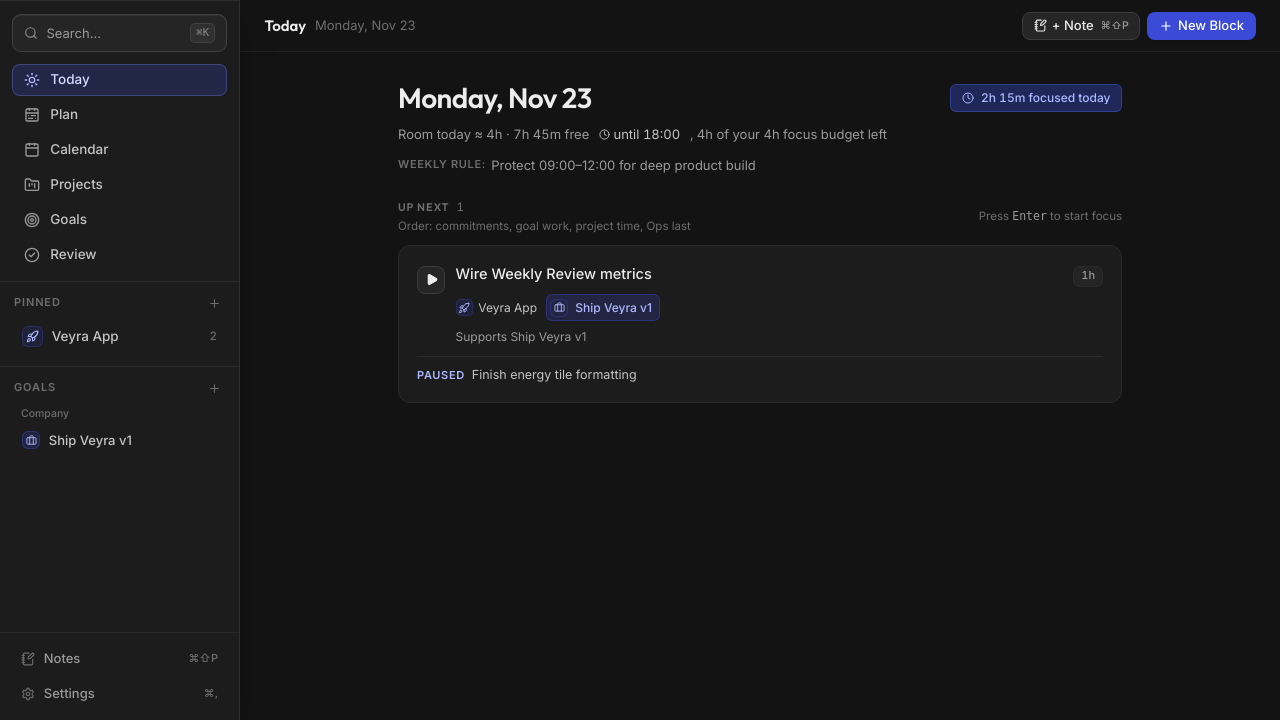
Veyra Web App Flows › ReviewView renders raw Energy counts (9+ · 3· · 1−) and never renders a percentage energy score
The image size is (1280, 720).
Expected: the text "2h 15m focused today" is shown, [981,92,1110,104]
What coordinates should you click on to do the following:
click the button "Review"
I would click on:
 (120, 255)
Its box is [12,239,227,271].
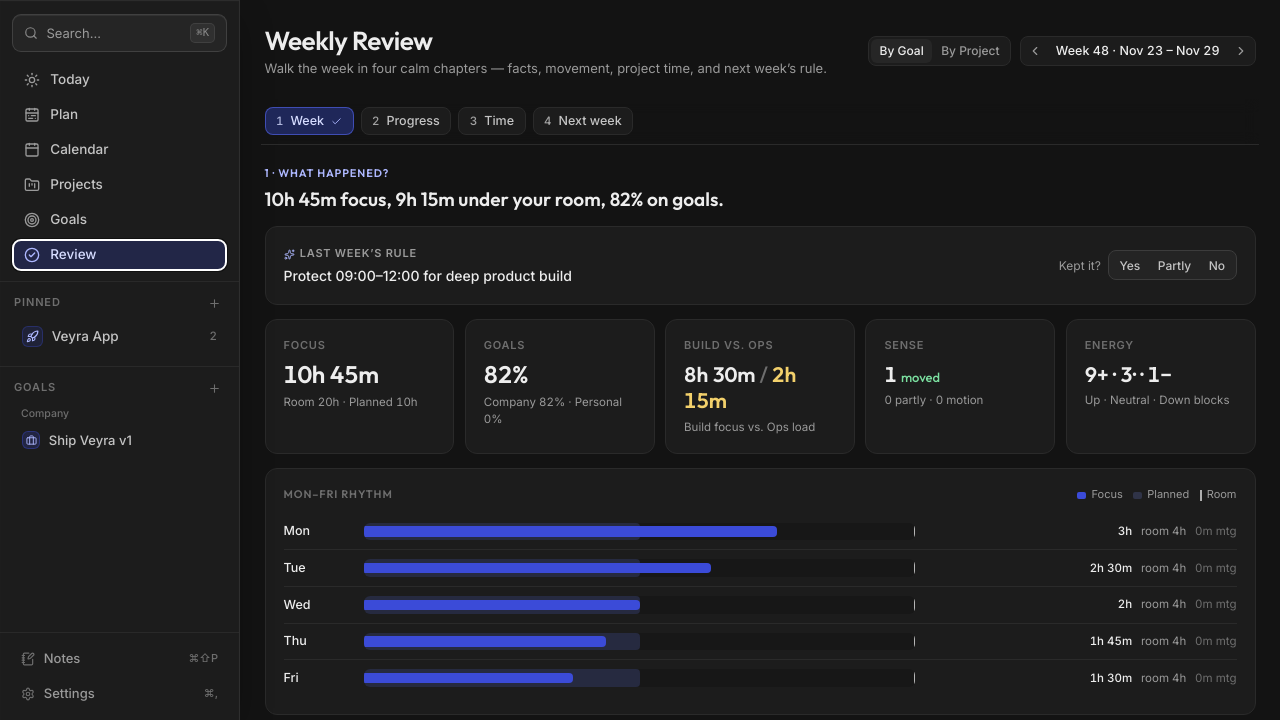
Expected: the element with test id "review-energy-tile" does not show "%", [1066,319,1256,454]
Result: the heading "Weekly Review" is shown at [264,24,433,56]
Result: the element with test id "review-energy-tile" shows "9+ · 3· · 1−" at [1085,361,1172,387]
